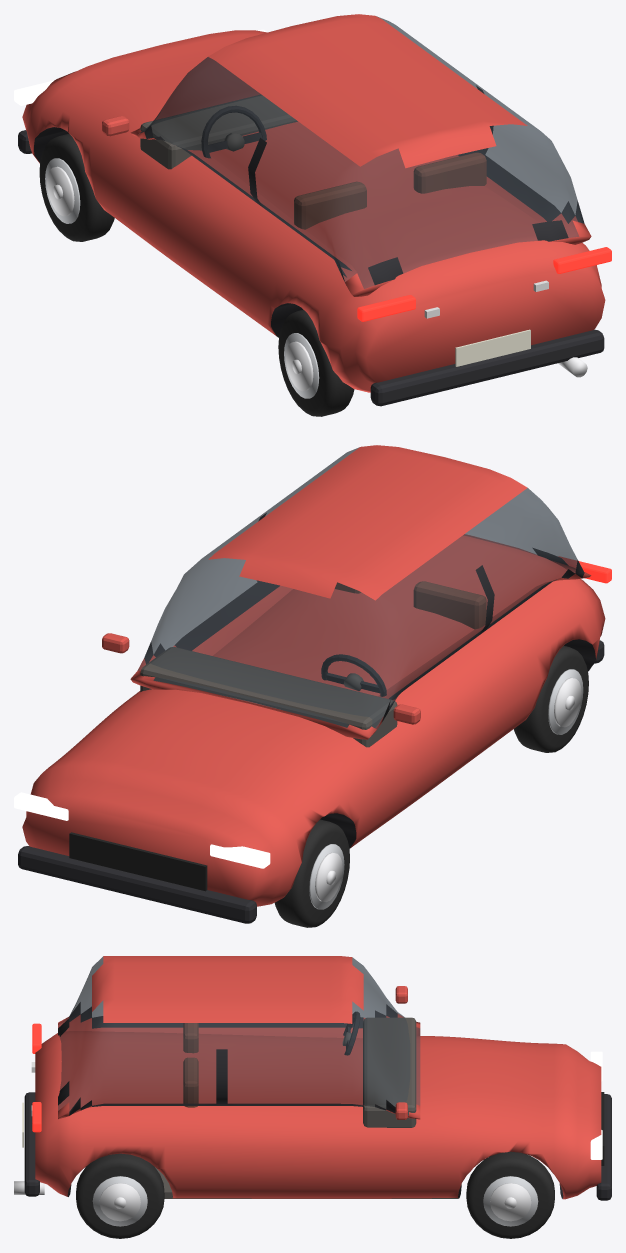
The model's file is t_small.glb.
3 views of the same model, one above another, from view 1: azimuth 30°, elevation 25°; view 2: azimuth 150°, elevation 25°; view 3: azimuth 270°, elevation 25° (orthographic). The views are drawn at different scales.
Parts seen in each view (by area): view 1: Body.010, Glass.010, Interior.010, Wheel_FL.010, Wheel_RL.010, Lights_Tail.010, SteeringWheel.010; view 2: Body.010, Glass.010, Interior.010, Wheel_FL.010, Wheel_RL.010, Lights_Head.010, SteeringWheel.010; view 3: Body.010, Glass.010, Interior.010, Wheel_FR.010, Wheel_RR.010, Lights_Tail.010, Lights_Head.010, SteeringWheel.010.
Part boxes in pixels (x1,y1,x2,y2): Body.010: (18,14,605,406); Glass.010: (138,16,584,288); Interior.010: (140,95,486,229); Wheel_FL.010: (39,134,114,241); Wheel_RL.010: (278,309,354,416); Lights_Tail.010: (357,247,611,321); SteeringWheel.010: (201,105,266,158); Body.010: (18,445,605,923); Glass.010: (137,447,577,728); Interior.010: (140,581,486,747); Wheel_FL.010: (274,819,349,927); Wheel_RL.010: (514,646,588,752); Lights_Head.010: (14,792,270,868); SteeringWheel.010: (321,654,386,696); Body.010: (14,956,611,1200); Glass.010: (58,956,420,1115); Interior.010: (155,1017,458,1198); Wheel_FR.010: (466,1151,554,1238); Wheel_RR.010: (76,1153,164,1238); Lights_Tail.010: (32,1023,41,1132); Lights_Head.010: (590,1051,602,1159); SteeringWheel.010: (342,1011,360,1055).
Size of the model in its own units: 1.94 by 1.5 by 3.91.
